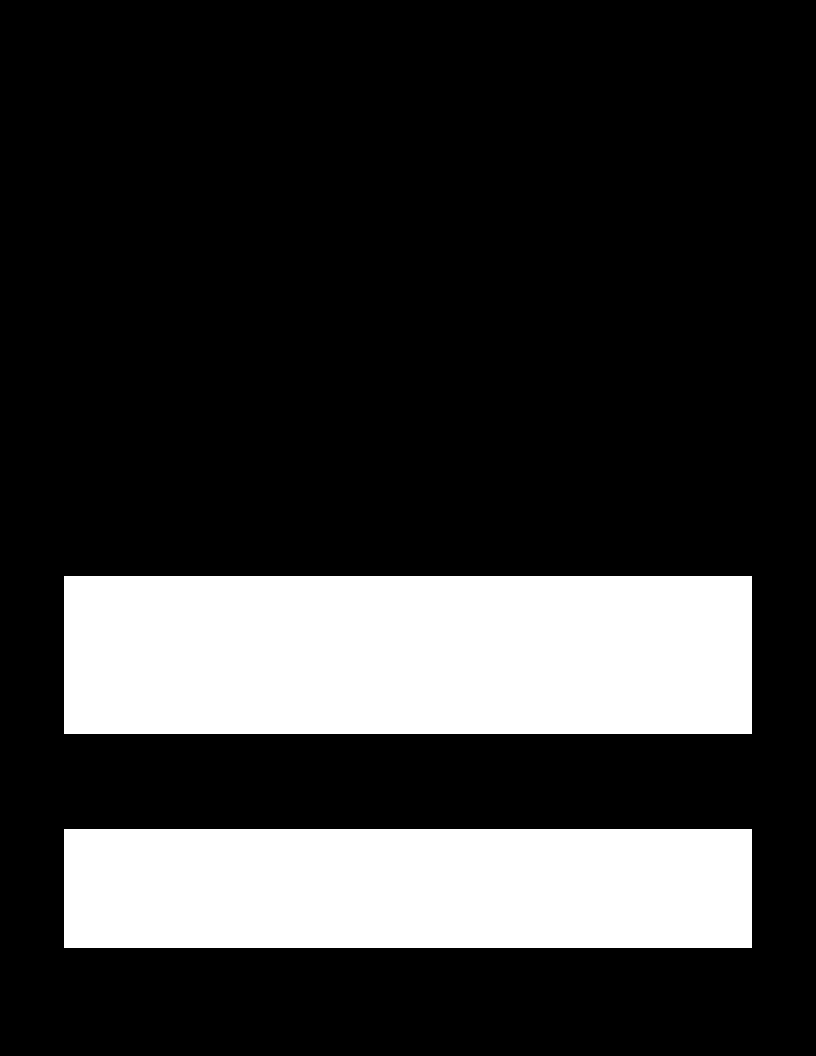table: (64, 576, 751, 733), (64, 829, 751, 947)
